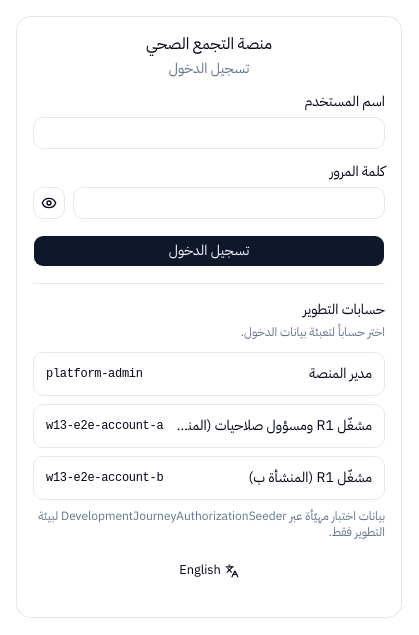
it: login screen › fills the username and password without auto-submitting when a persona is selected
Click the button "مشغّل R1 ومسؤول صلاحيات (المنشأة أ) w13-e2e-account-a". click: (209, 426)
box: left=33, top=404, right=385, bottom=448
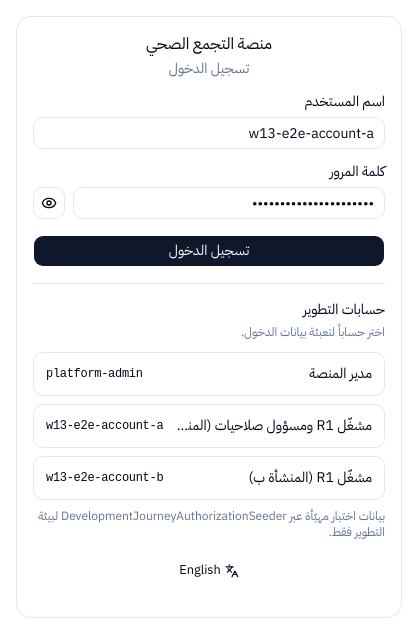
expect the field labelled "اسم المستخدم" holds "w13-e2e-account-a": met, box left=33, top=117, right=385, bottom=149
